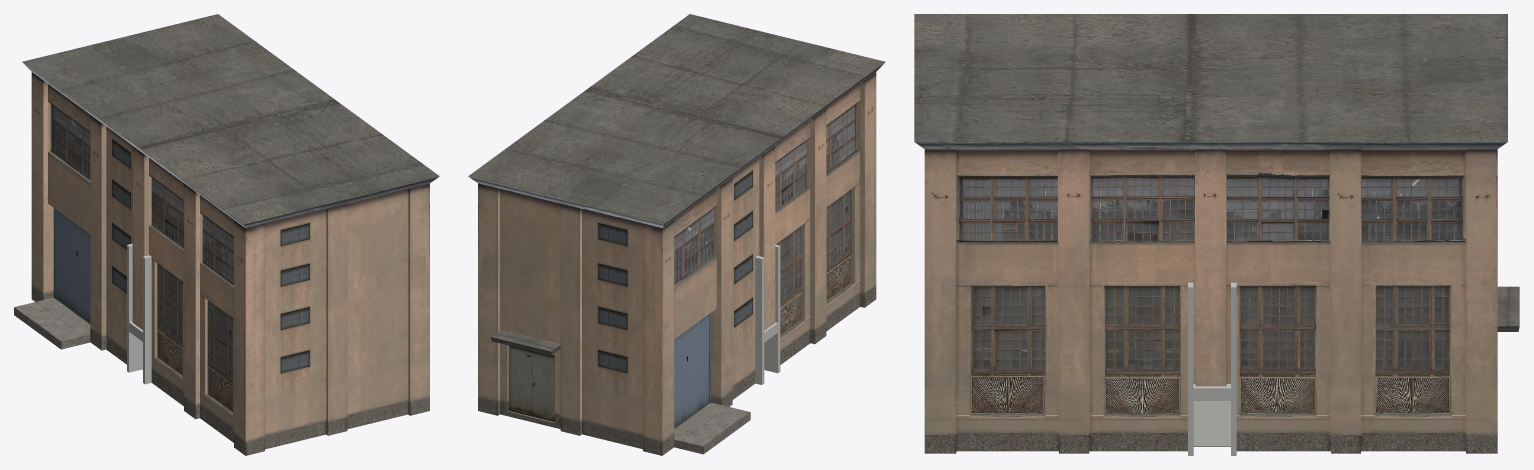
The model's file is factory-hall.zfix-v14.lod0.glb.
3 views of the same model, side by side, from view 1: azimuth 30°, elevation 25°; view 2: azimuth 150°, elevation 25°; view 3: azimuth 270°, elevation 25° (orthographic). The views are drawn at different scales.
Parts seen in each view (by area): view 1: factory_1_factory_1_0, Walkable floors and stairs; view 2: factory_1_factory_1_0, Walkable floors and stairs; view 3: factory_1_factory_1_0, Walkable floors and stairs (×2).
Part boxes in pixels (<box>): factory_1_factory_1_0: <box>14,14,439,455</box>; Walkable floors and stairs: <box>127,243,151,384</box>; factory_1_factory_1_0: <box>468,14,885,455</box>; Walkable floors and stairs: <box>716,244,780,384</box>; factory_1_factory_1_0: <box>914,14,1519,453</box>; Walkable floors and stairs (×2): <box>1188,282,1236,455</box>.
Bounding box in the file's own units: 14.59 × 14.96 × 26.
3 materials, 1 textured.
